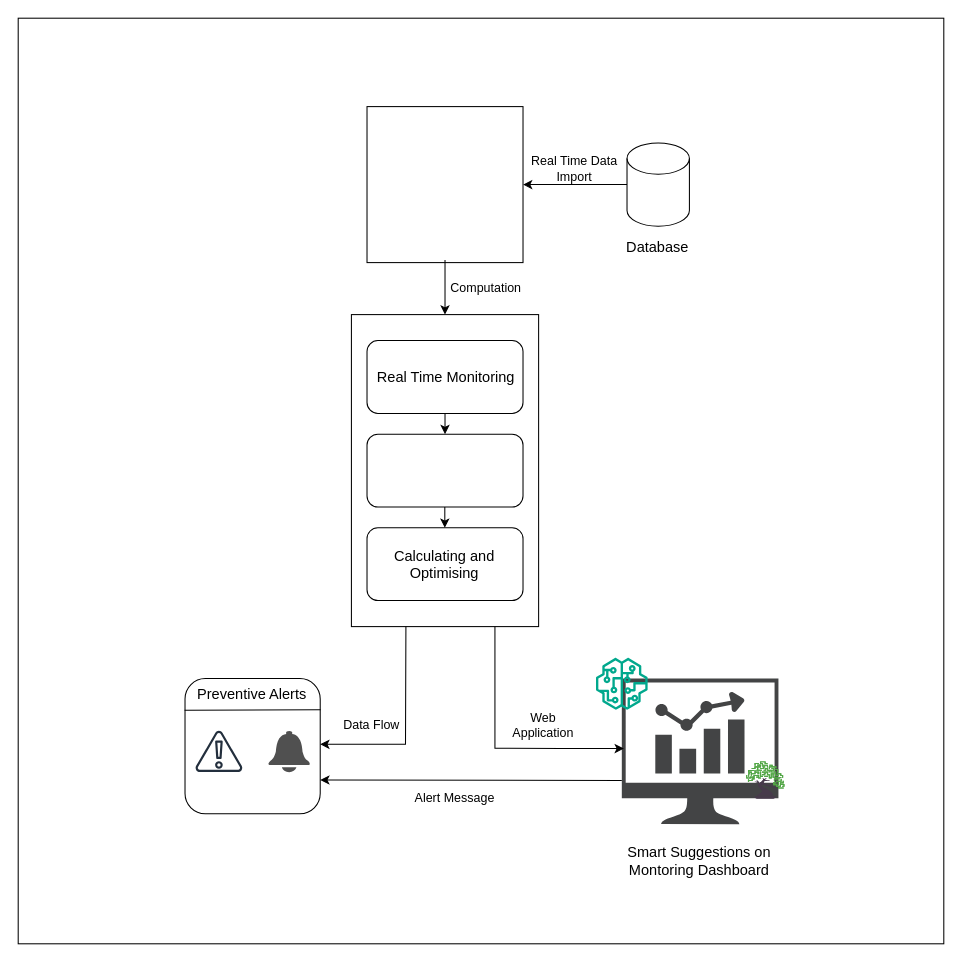
Image size: 962x962. Some labels were removed from this diagram. Here are the shapes that lost their labels. From the top down, the centre of each, then its label:
At point (444, 184): "On Site Analysis of Coal Mines (Operations, Equipements, etc)".
At point (444, 470): "Carbon Emission Tracking".
